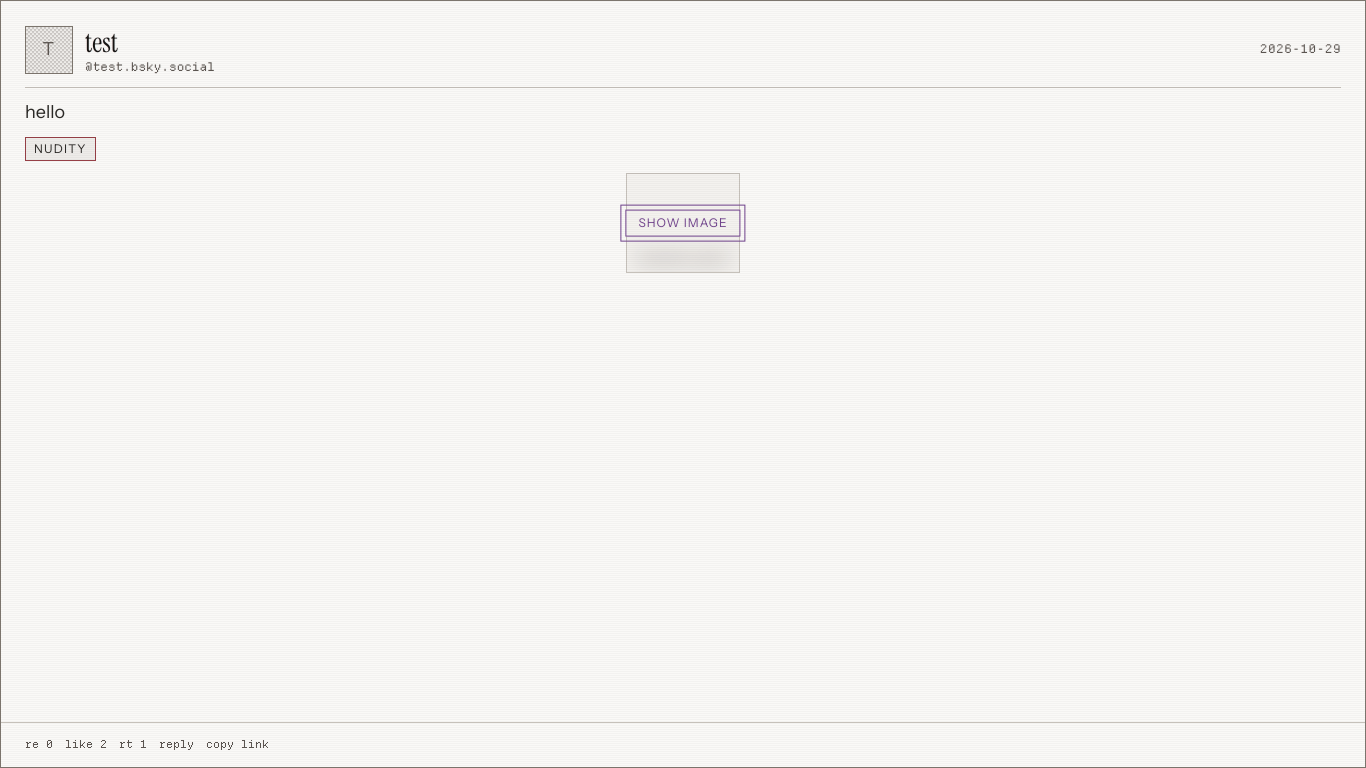
it: keeps concealed media inert and the caption blurred until reveal
The image size is (1366, 768).
Click the button with class "b-spoil".
click(683, 223)  # box [625,210,741,236]
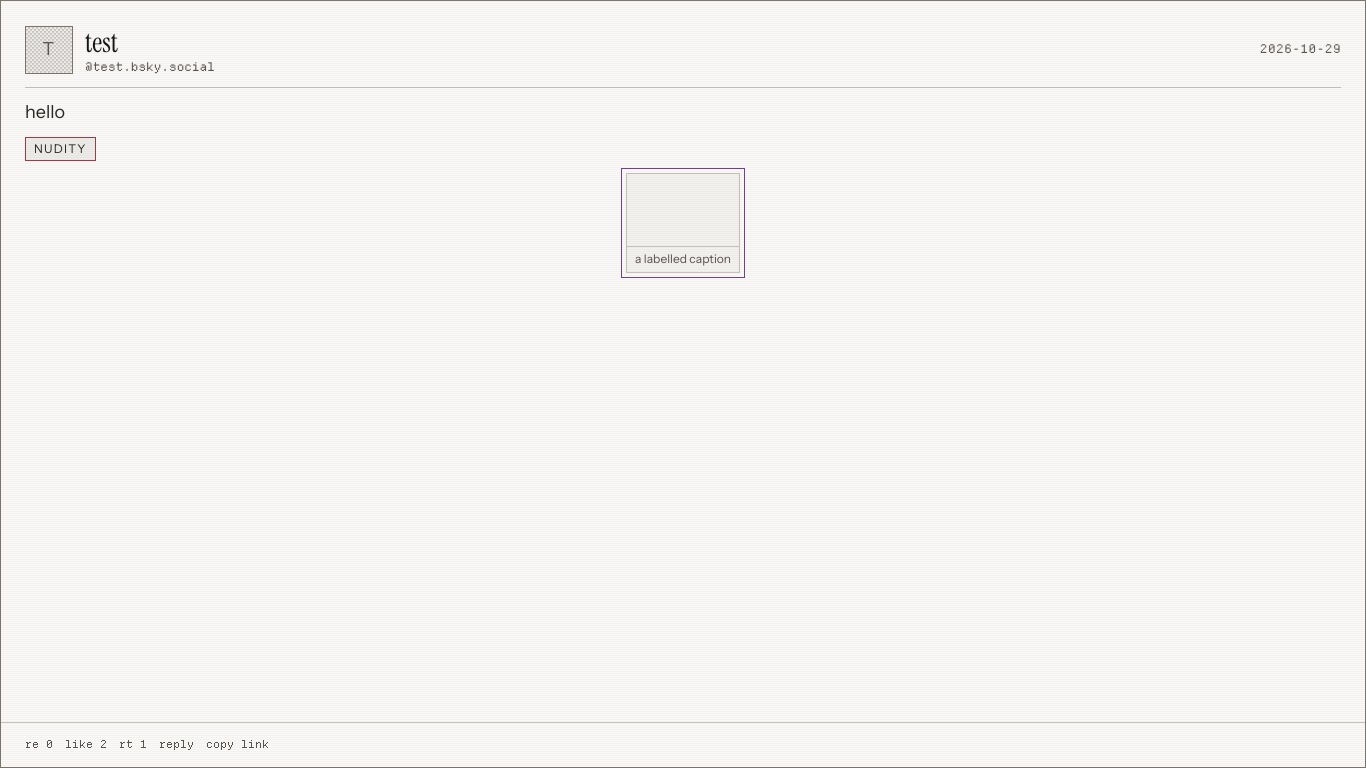
Expected: the element with class "b-embed--images" does not have attribute aria-hidden, [626,173,740,273]
